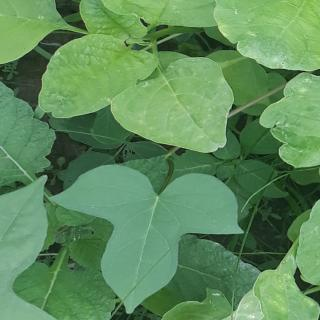karat_putih: (191, 265, 320, 320)
virus_keriting: (33, 34, 144, 126), (211, 9, 320, 79), (253, 70, 320, 168)
